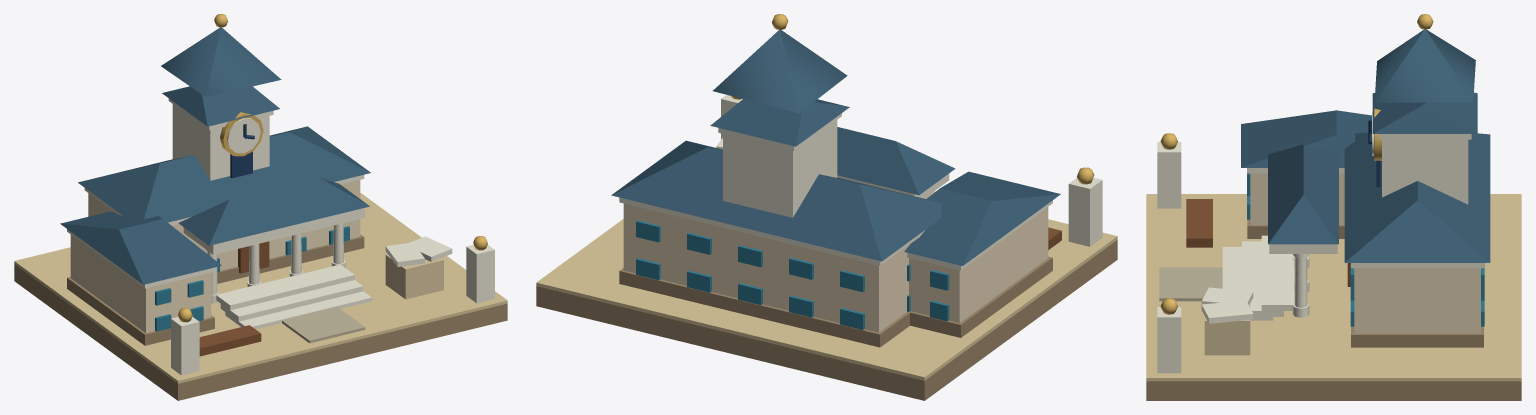
The model's file is university-lv2.glb.
The picture shows the model from 3 angles, left to right: view 1: azimuth 30°, elevation 25°; view 2: azimuth 150°, elevation 25°; view 3: azimuth 270°, elevation 25°; orthographic projection. The views are drawn at different scales.
Visible parts, largest first — view 1: foundation_sand, lecture_hall_roof_roof, foundation_stoneDark, portico_pediment_roof, library_wing_roof_roof, entrance_steps_white, library_wing_cream, tower_cap_roof, clock_tower_white, campus_gate_white, clock_tower_roof_roof, lecture_hall_cream (+14 smaller); view 2: foundation_sand, lecture_hall_roof_roof, lecture_hall_cream, foundation_stoneDark, clock_tower_white, library_wing_roof_roof, library_wing_cream, tower_cap_roof, portico_pediment_roof, lecture_hall_windows_glass, lecture_hall_stoneDark, clock_tower_roof_roof (+5 smaller); view 3: foundation_sand, lecture_hall_roof_roof, lecture_hall_cream, foundation_stoneDark, portico_pediment_roof, tower_cap_roof, clock_tower_white, library_wing_roof_roof, entrance_steps_white, clock_tower_roof_roof, campus_gate_white, lecture_hall_stoneDark (+11 smaller).
Boxes of the visible parts, <box> form: foundation_sand: <box>14,193,507,383</box>; lecture_hall_roof_roof: <box>78,126,370,222</box>; foundation_stoneDark: <box>14,264,507,400</box>; portico_pediment_roof: <box>178,177,369,245</box>; library_wing_roof_roof: <box>60,211,221,284</box>; entrance_steps_white: <box>216,265,371,329</box>; library_wing_cream: <box>70,234,211,333</box>; tower_cap_roof: <box>161,27,281,96</box>; clock_tower_white: <box>168,98,273,180</box>; campus_gate_white: <box>171,244,494,375</box>; clock_tower_roof_roof: <box>162,86,279,126</box>; lecture_hall_cream: <box>88,180,360,270</box>; foundation_sand: <box>536,191,1117,380</box>; lecture_hall_roof_roof: <box>611,140,942,261</box>; lecture_hall_cream: <box>623,203,909,332</box>; foundation_stoneDark: <box>536,240,1117,400</box>; clock_tower_white: <box>718,113,841,217</box>; library_wing_roof_roof: <box>904,171,1060,265</box>; library_wing_cream: <box>909,207,1048,322</box>; tower_cap_roof: <box>713,30,847,113</box>; portico_pediment_roof: <box>837,127,955,195</box>; lecture_hall_windows_glass: <box>636,220,864,329</box>; lecture_hall_stoneDark: <box>619,268,909,347</box>; clock_tower_roof_roof: <box>710,99,849,146</box>; foundation_sand: <box>1146,194,1521,381</box>; lecture_hall_roof_roof: <box>1344,132,1490,262</box>; lecture_hall_cream: <box>1354,268,1480,333</box>; foundation_stoneDark: <box>1146,381,1521,400</box>; portico_pediment_roof: <box>1268,144,1338,244</box>; tower_cap_roof: <box>1374,29,1475,102</box>; clock_tower_white: <box>1379,134,1471,204</box>; library_wing_roof_roof: <box>1241,110,1371,167</box>; entrance_steps_white: <box>1222,235,1294,320</box>; clock_tower_roof_roof: <box>1372,92,1477,133</box>; campus_gate_white: <box>1157,142,1181,373</box>; lecture_hall_stoneDark: <box>1351,326,1483,347</box>.
Bounding box in the file's own units: 1 × 0.7459 × 0.8605.
